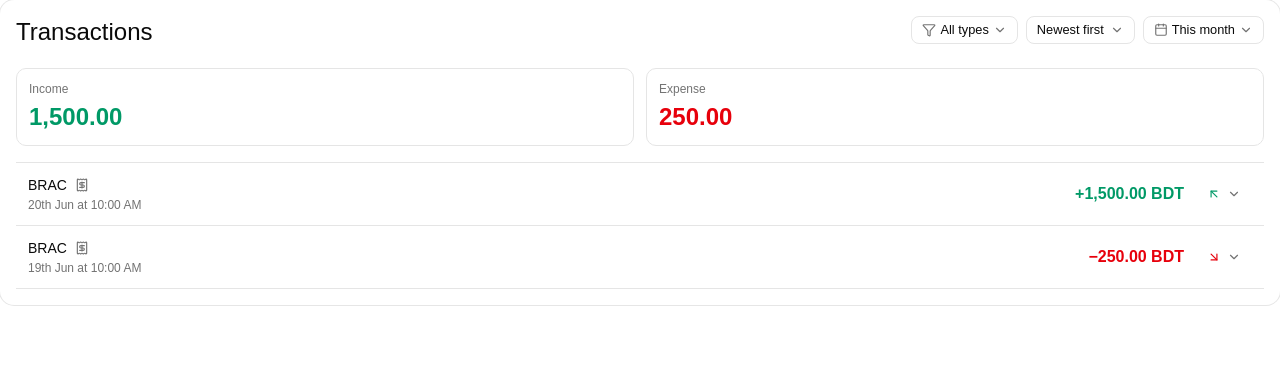
Scenario: TransactionsSection › collapses a transaction row when toggled again
This screenshot has width=1280, height=381.
Check: the text "+1,500.00 BDT" is shown, box left=1075, top=182, right=1184, bottom=206
Click the button with aria-label "toggle message for brac": (47, 185) left=28, top=177, right=1252, bottom=212
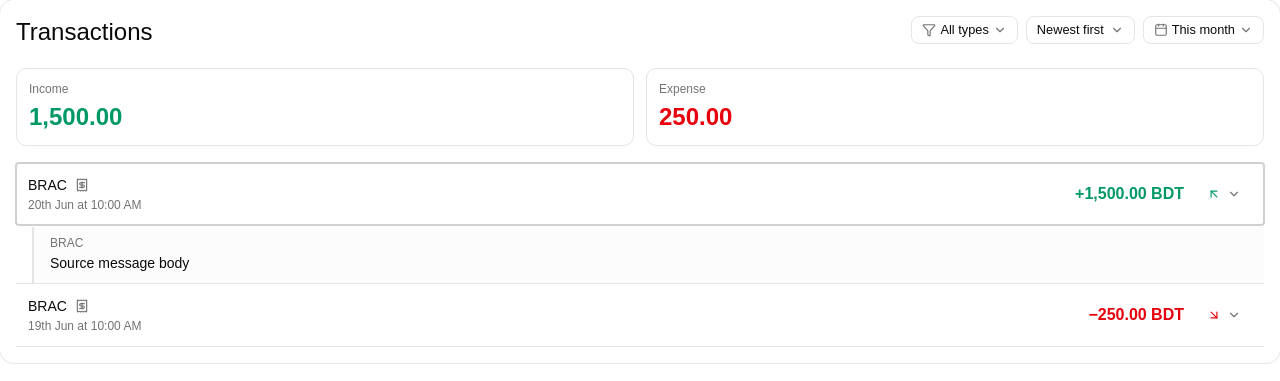
Check: the text "Source message body" is shown, box left=50, top=255, right=189, bottom=271
Click the button with aria-label "toggle message for brac": (47, 185) left=28, top=177, right=1252, bottom=212
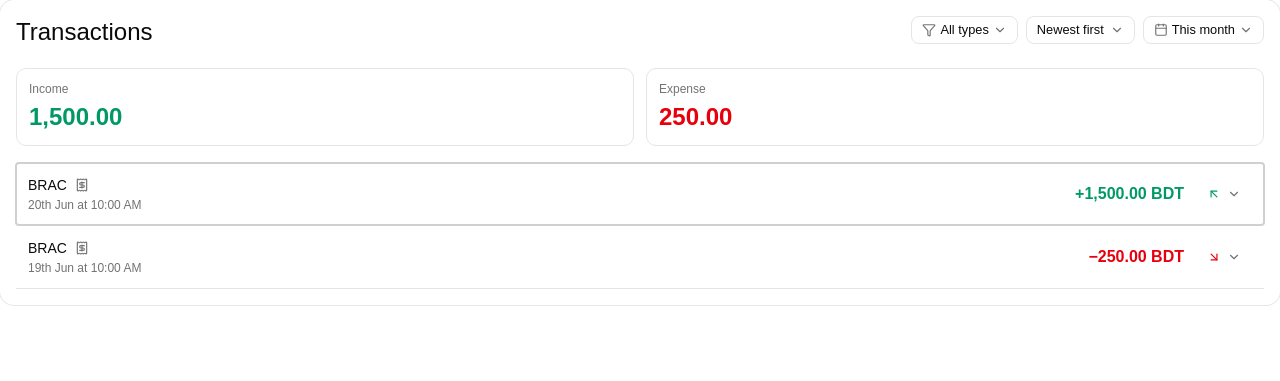
Check: the text "Source message body" is gone
